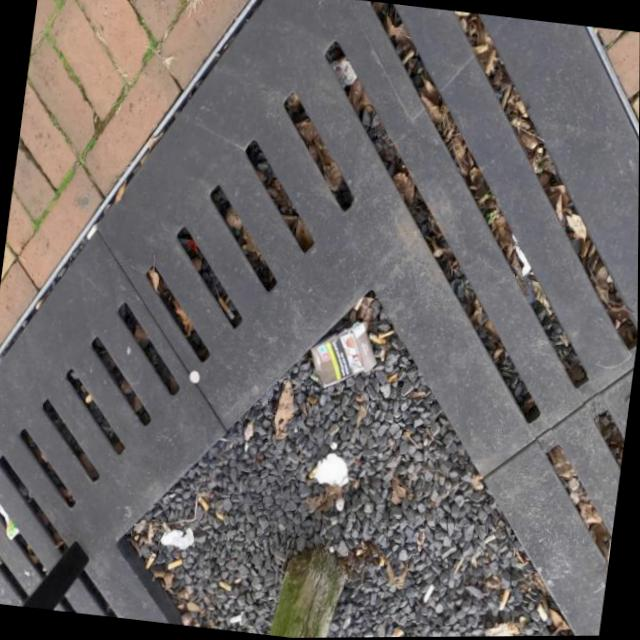Paper: (305, 315, 383, 396), (312, 451, 352, 489), (159, 523, 197, 553)
Plastic: (0, 500, 24, 542)
